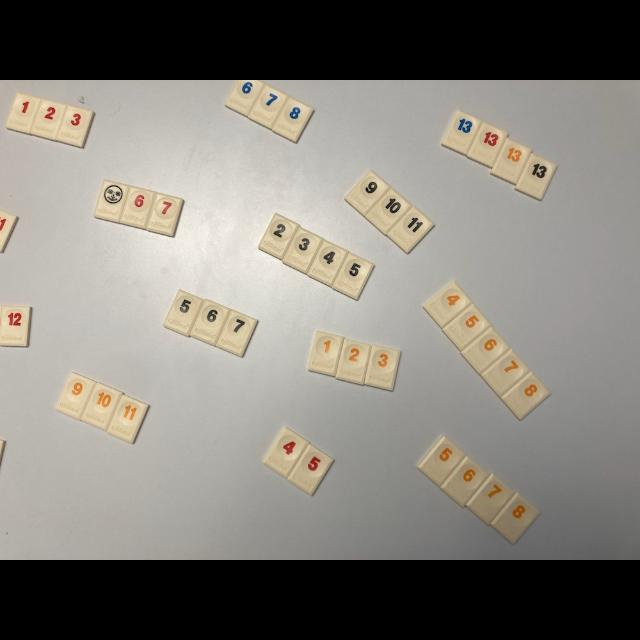black_10: (366, 189, 411, 235)
black_11: (388, 206, 434, 252)
black_13: (515, 154, 556, 200)
black_2: (259, 214, 299, 260)
black_3: (282, 228, 322, 274)
black_4: (308, 240, 348, 286)
black_5: (332, 254, 374, 300), (164, 290, 204, 336)
black_6: (191, 300, 230, 345)
black_7: (218, 310, 258, 356)
black_9: (345, 170, 390, 216)
blue_13: (441, 110, 481, 155)
blue_6: (225, 80, 265, 116)
blue_7: (249, 85, 288, 129)
blue_8: (272, 98, 314, 142)
joker: (95, 180, 130, 222)
orange_1: (308, 331, 344, 376)
orange_10: (81, 382, 122, 430)
orange_11: (108, 395, 149, 444)
orange_13: (491, 139, 531, 184)
orange_2: (338, 340, 371, 384)
orange_3: (365, 345, 400, 391)
orange_4: (424, 281, 472, 328)
orange_5: (418, 436, 465, 486), (442, 304, 491, 350)
orange_6: (441, 456, 488, 506), (461, 328, 509, 374)
orange_7: (466, 474, 514, 525), (481, 350, 529, 396)
orange_8: (491, 492, 540, 544), (501, 371, 550, 420)
orange_9: (55, 372, 96, 420)
red_1: (5, 92, 41, 134)
red_11: (1, 210, 18, 252)
red_13: (468, 122, 508, 168)
red_2: (30, 99, 66, 140)
red_3: (56, 105, 94, 148)
red_4: (262, 428, 309, 478)
red_5: (289, 444, 334, 495)
red_6: (120, 186, 155, 229)
red_7: (146, 192, 182, 236)
